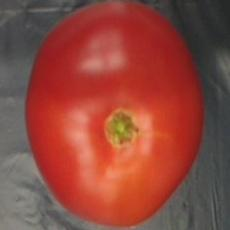unripe: (22, 0, 208, 230)
